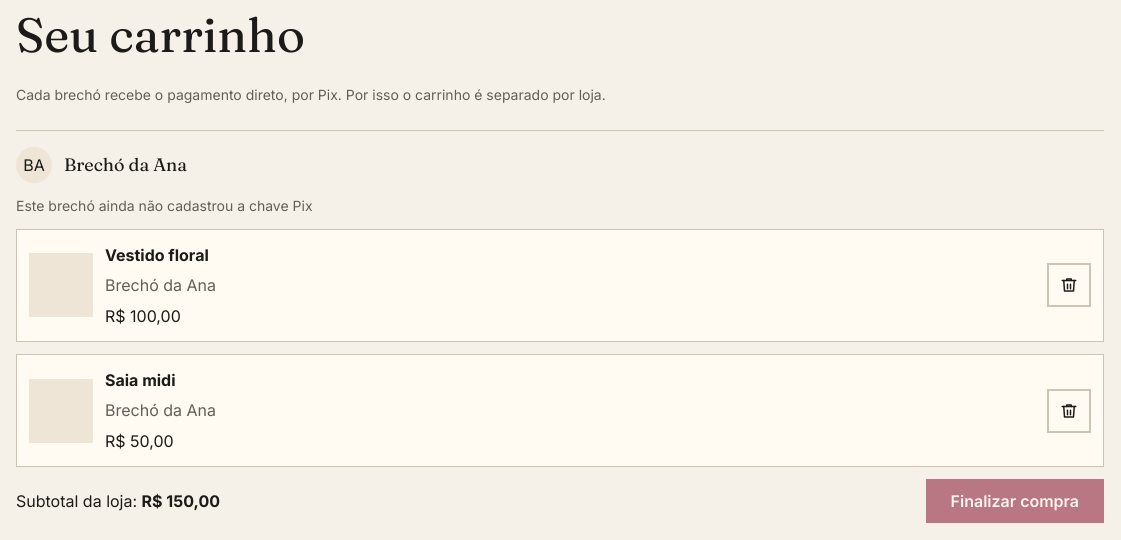
Scenario: <Cart /> › remover item atualiza a lista e o subtotal
Click the button named "Remover Saia midi do carrinho" at x=1069, y=410, box [1047,388,1091,432]
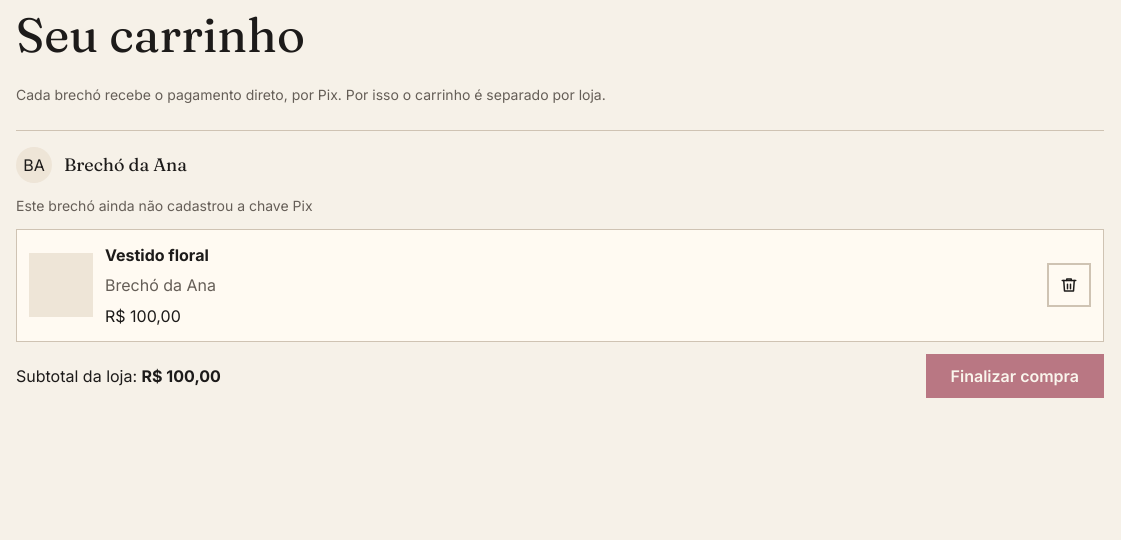
Result: the button "Saia midi" is gone
Result: the text with test id "subtotal-loja-ana" reads "R$ 100,00" at [142,366,221,386]
